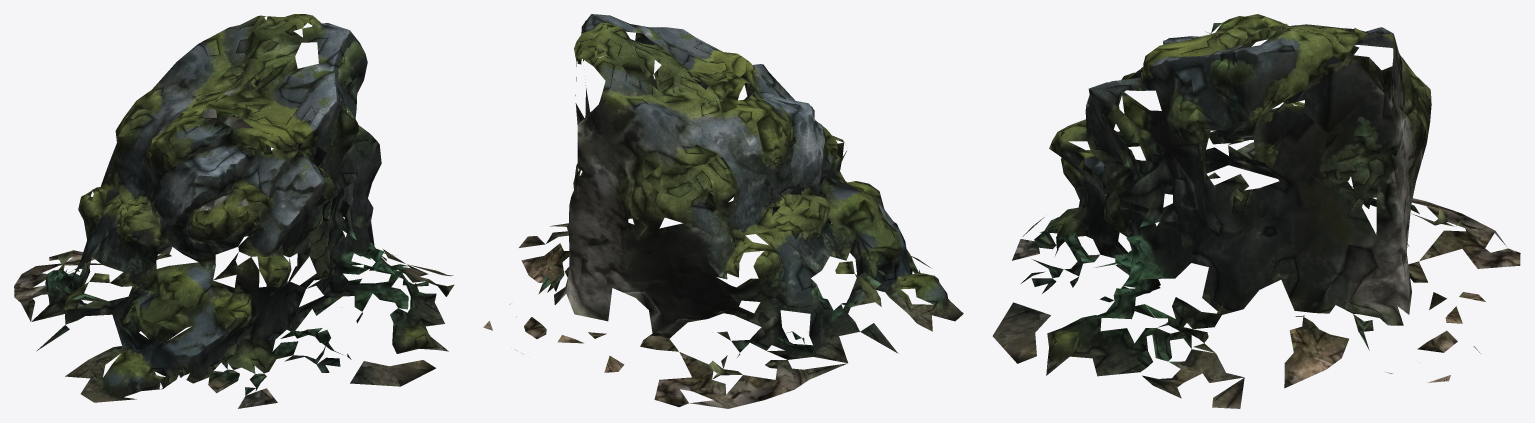
File: swamp-mountain-1.glb
3 renders of one model, left to right at view 1: azimuth 30°, elevation 25°; view 2: azimuth 150°, elevation 25°; view 3: azimuth 270°, elevation 25°, orthographic. The views are drawn at different scales.
Visible parts, largest first — view 1: geometry_0; view 2: geometry_0; view 3: geometry_0.
Boxes of the visible parts, x1,y1,x2,y2 form: geometry_0: [14, 14, 454, 408]; geometry_0: [483, 14, 963, 408]; geometry_0: [992, 14, 1520, 408].
Size of the model in its own units: 0.916 by 0.5979 by 0.8746.
Materials: 1 (1 with a texture image).
